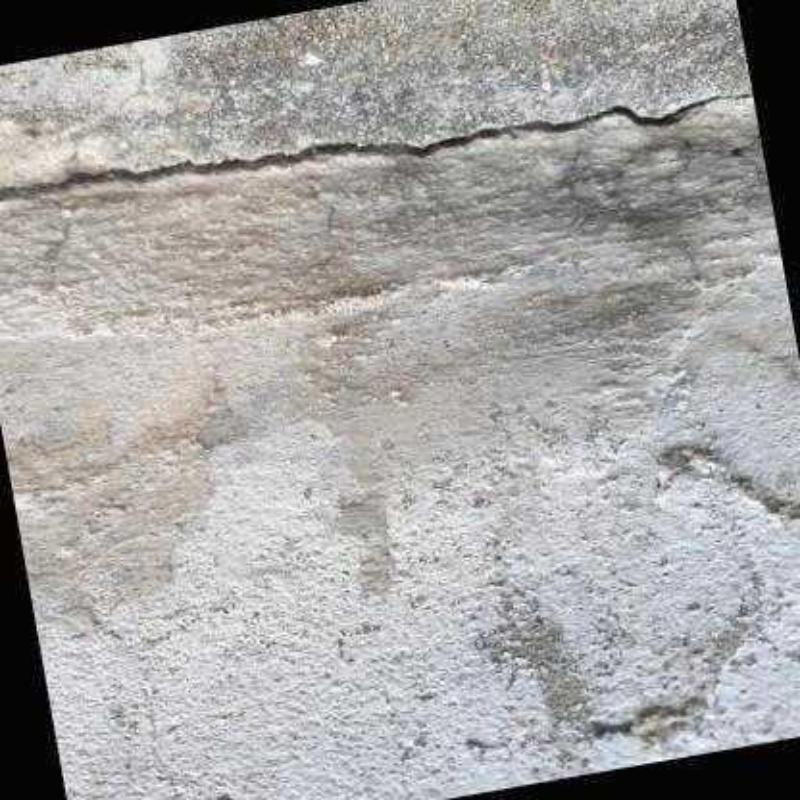pothole: (3, 94, 755, 203)
